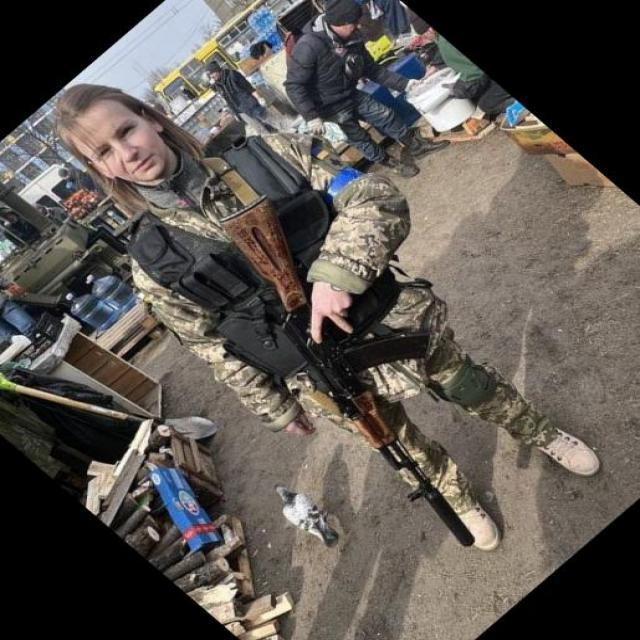weapon: (218, 196, 478, 550)
